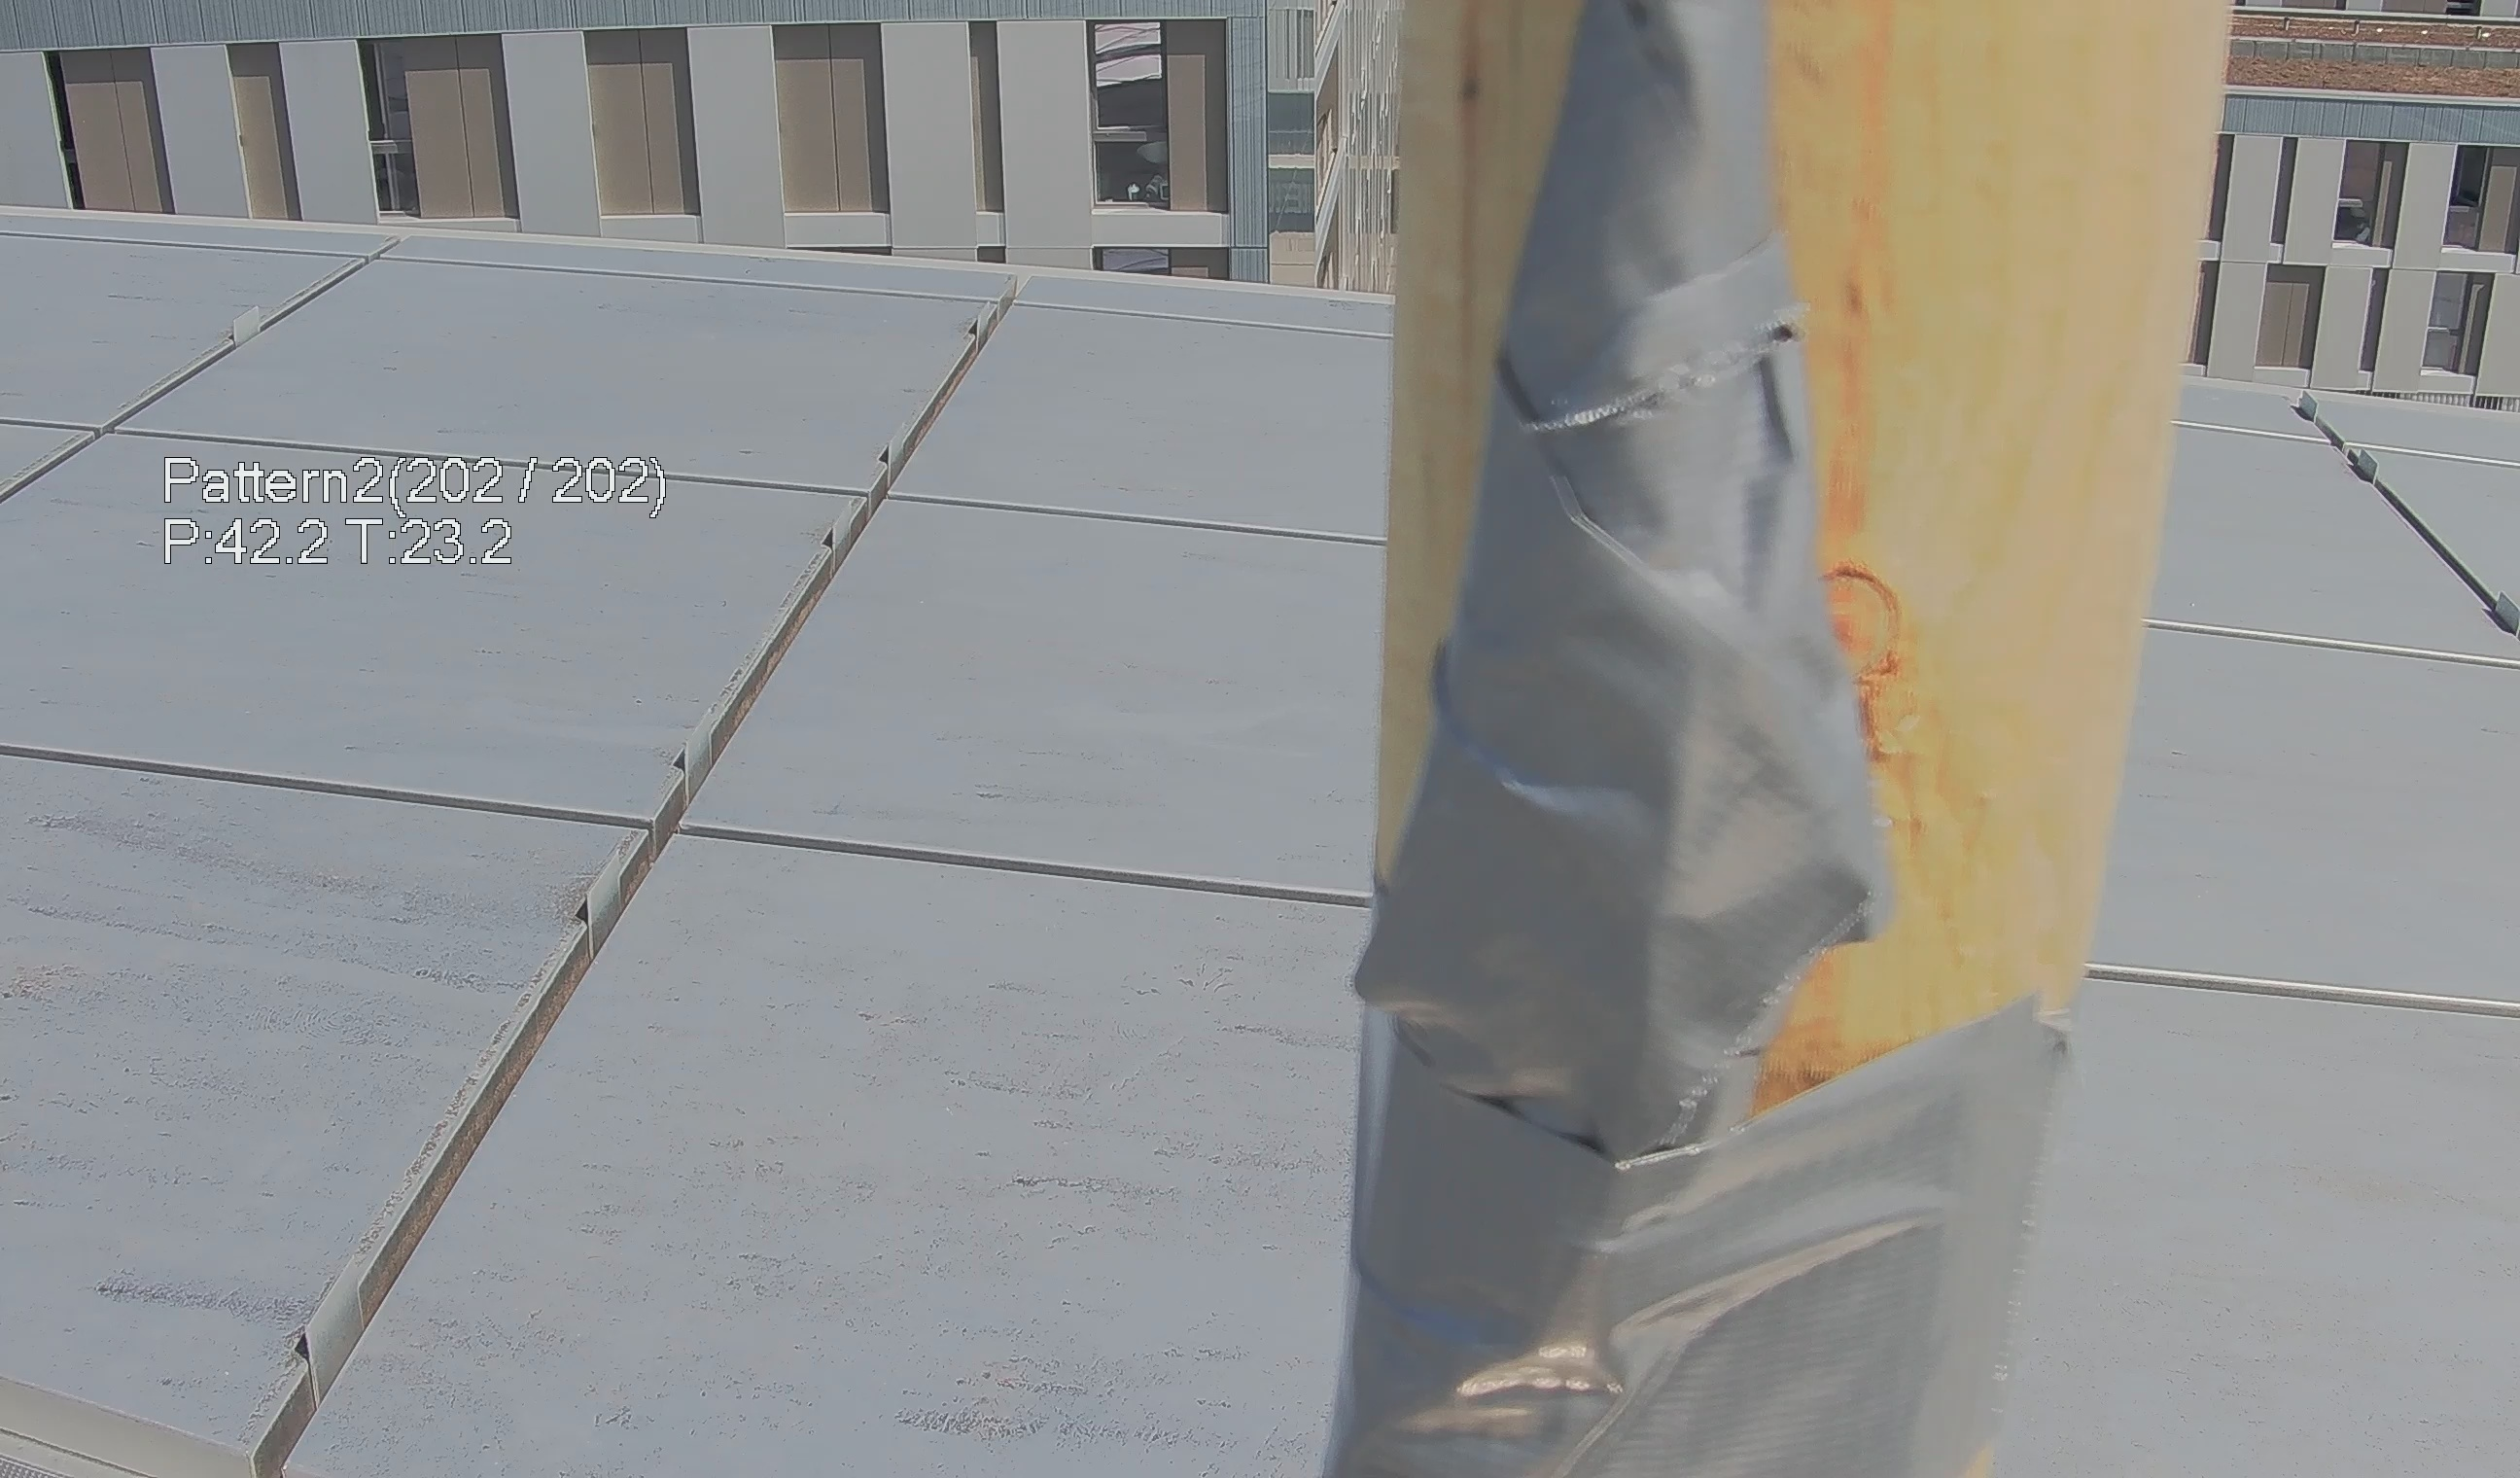Other: (1375, 79, 1952, 1240)
